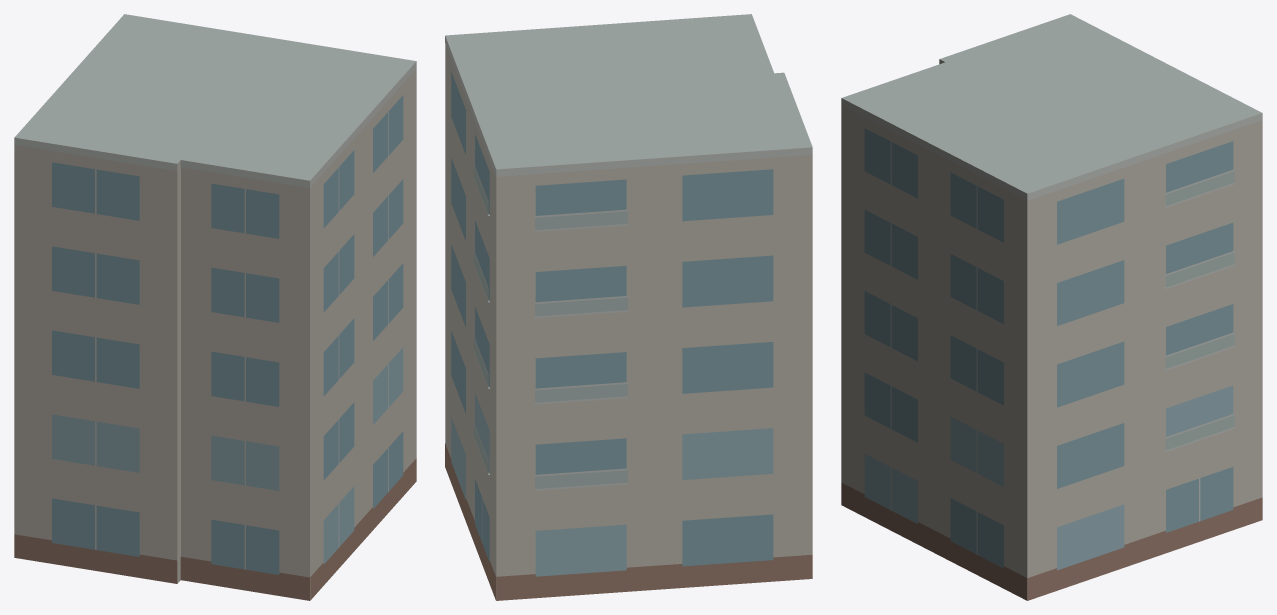
The model's file is survey-upis-32613181.glb.
3 views of the same model, side by side, from view 1: azimuth 30°, elevation 25°; view 2: azimuth 150°, elevation 25°; view 3: azimuth 270°, elevation 25° (orthographic). The views are drawn at different scales.
Parts seen in each view (by area): view 1: survey-upis-32613181.tmp; view 2: survey-upis-32613181.tmp; view 3: survey-upis-32613181.tmp.
Boxes of the visible parts, x1,y1,x2,y2 form: survey-upis-32613181.tmp: (14,14,416,600); survey-upis-32613181.tmp: (445,14,812,600); survey-upis-32613181.tmp: (841,14,1262,600).
Bounding box in the file's own units: 13.36 × 14.1 × 13.23.
